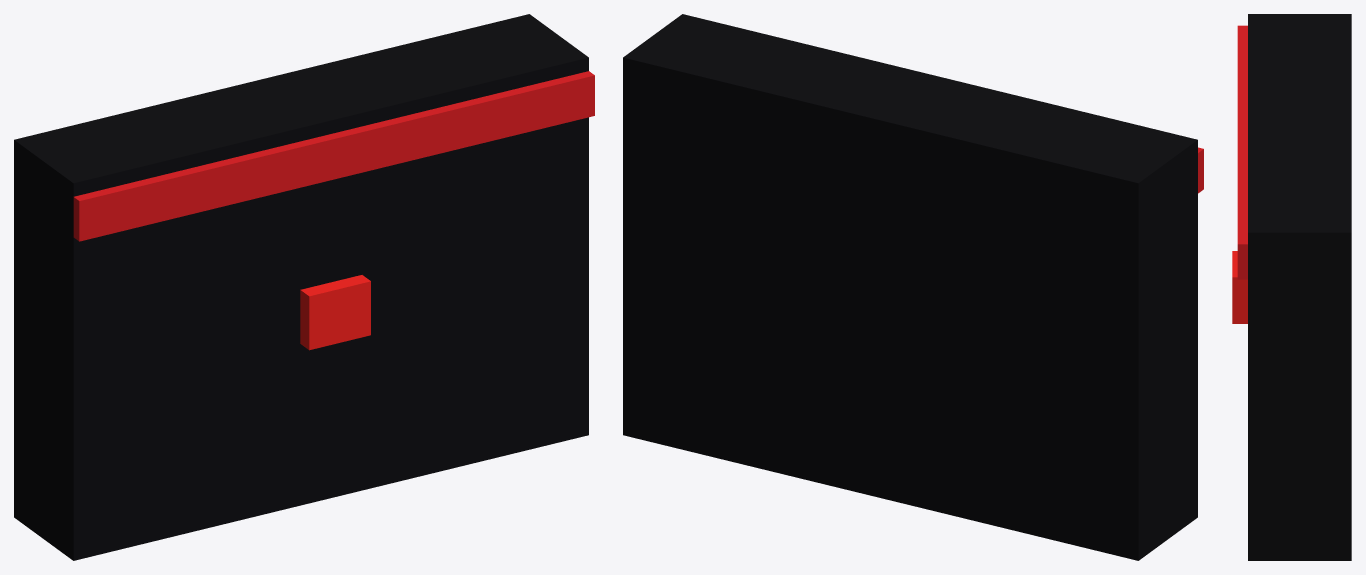
File: item_F2_BreachCharge.obj
3 renders of one model, left to right at view 1: azimuth 30°, elevation 25°; view 2: azimuth 150°, elevation 25°; view 3: azimuth 270°, elevation 25°, orthographic. The views are drawn at different scales.
Parts seen in each view (by area): view 1: Item_F2_BreachCharge, Item_F2_BreachCharge_Stripes, Item_F2_BreachCharge_Light; view 2: Item_F2_BreachCharge; view 3: Item_F2_BreachCharge, Item_F2_BreachCharge_Stripes, Item_F2_BreachCharge_Light.
Part boxes in pixels (x1=…): Item_F2_BreachCharge: x1=14, y1=14, x2=588, y2=560; Item_F2_BreachCharge_Stripes: x1=73, y1=71, x2=594, y2=241; Item_F2_BreachCharge_Light: x1=300, y1=275, x2=370, y2=350; Item_F2_BreachCharge: x1=623, y1=14, x2=1197, y2=560; Item_F2_BreachCharge: x1=1248, y1=14, x2=1351, y2=560; Item_F2_BreachCharge_Stripes: x1=1237, y1=25, x2=1247, y2=279; Item_F2_BreachCharge_Light: x1=1232, y1=251, x2=1247, y2=323.
Size of the model in its own units: 0.2 by 0.14 by 0.046.
